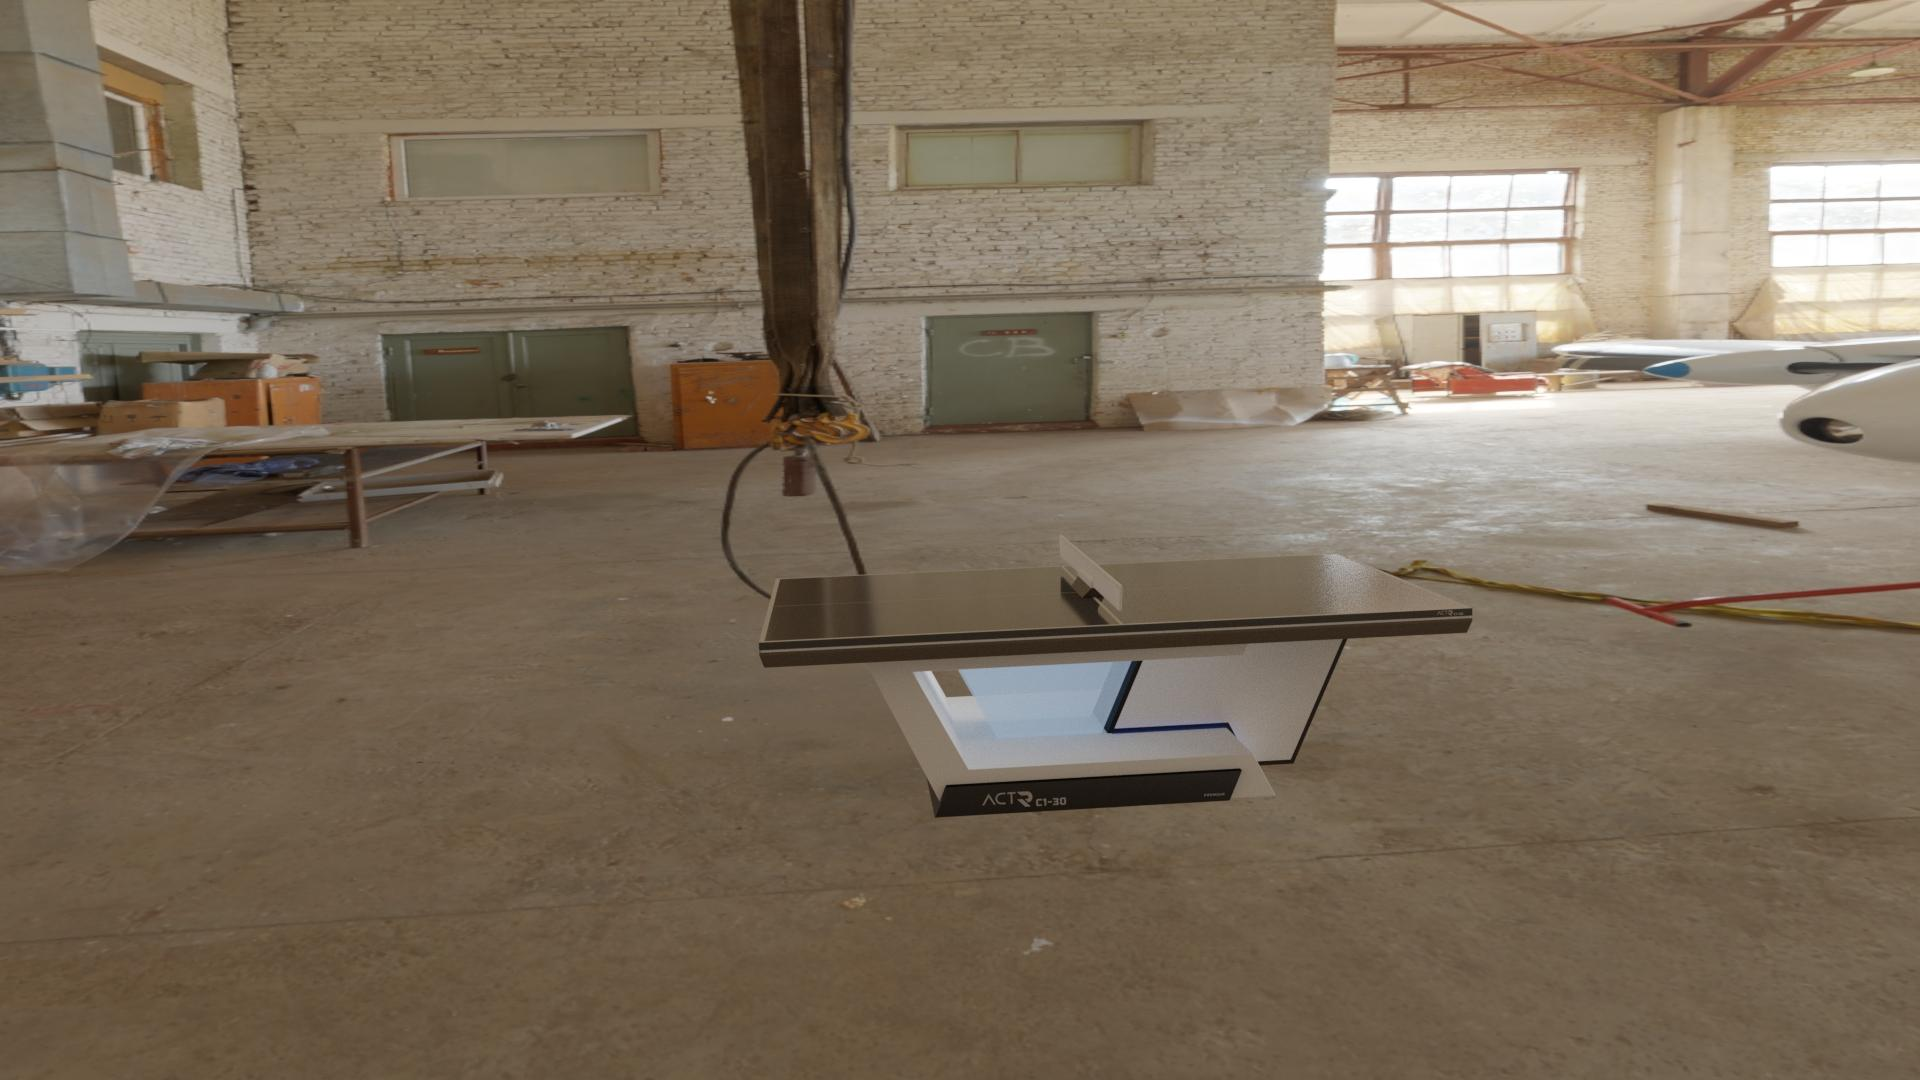table: (764, 554, 1465, 641)
